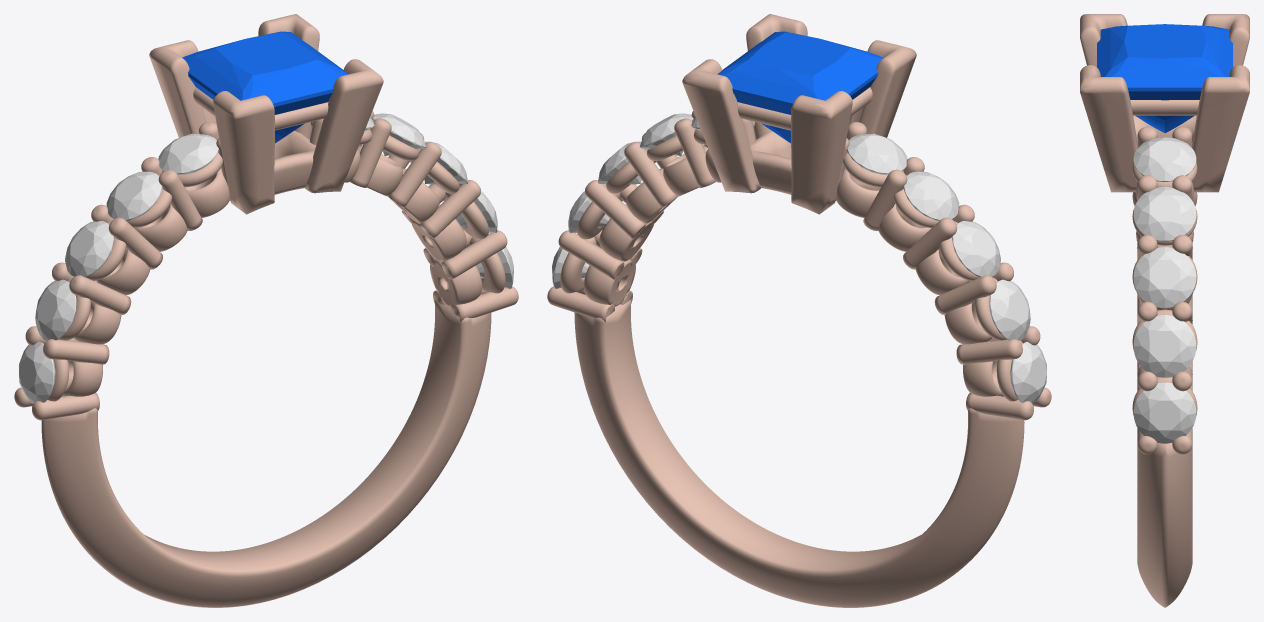
Rendered from bluesapphire-princess-rosegold-protectededges4prongs-knifeedge-11stone.glb.
3 views of the same model, side by side, from view 1: azimuth 30°, elevation 25°; view 2: azimuth 150°, elevation 25°; view 3: azimuth 270°, elevation 25° (orthographic).
Visible parts, largest first — view 1: metal, stone, side.004, side.005, side.001, side.006, side, side.008, side.009; view 2: metal, stone, side.004, side.005, side.001, side.006, side, side.008, side.009; view 3: metal, stone, side.003, side.009, side.002, side.008, side.007.
Part boxes in pixels (x1=…): metal: x1=14, y1=14, x2=518, y2=607; stone: x1=182, y1=31, x2=348, y2=143; side.004: x1=65, y1=221, x2=113, y2=277; side.005: x1=106, y1=171, x2=162, y2=220; side.001: x1=35, y1=279, x2=76, y2=340; side.006: x1=158, y1=133, x2=218, y2=174; side: x1=19, y1=341, x2=55, y2=403; side.008: x1=372, y1=113, x2=426, y2=155; side.009: x1=424, y1=141, x2=467, y2=184; metal: x1=547, y1=14, x2=1051, y2=607; stone: x1=717, y1=31, x2=883, y2=143; side.004: x1=952, y1=221, x2=1000, y2=277; side.005: x1=903, y1=171, x2=959, y2=220; side.001: x1=989, y1=279, x2=1030, y2=340; side.006: x1=847, y1=133, x2=907, y2=174; side: x1=1010, y1=341, x2=1046, y2=403; side.008: x1=639, y1=113, x2=693, y2=155; side.009: x1=598, y1=141, x2=641, y2=184; metal: x1=1080, y1=14, x2=1249, y2=607; stone: x1=1097, y1=24, x2=1232, y2=132; side.003: x1=1133, y1=315, x2=1196, y2=377; side.009: x1=1133, y1=247, x2=1196, y2=307; side.002: x1=1133, y1=382, x2=1196, y2=443; side.008: x1=1133, y1=186, x2=1196, y2=241; side.007: x1=1133, y1=137, x2=1196, y2=181.
Bounding box in the file's own units: 22 × 23.85 × 6.77.
